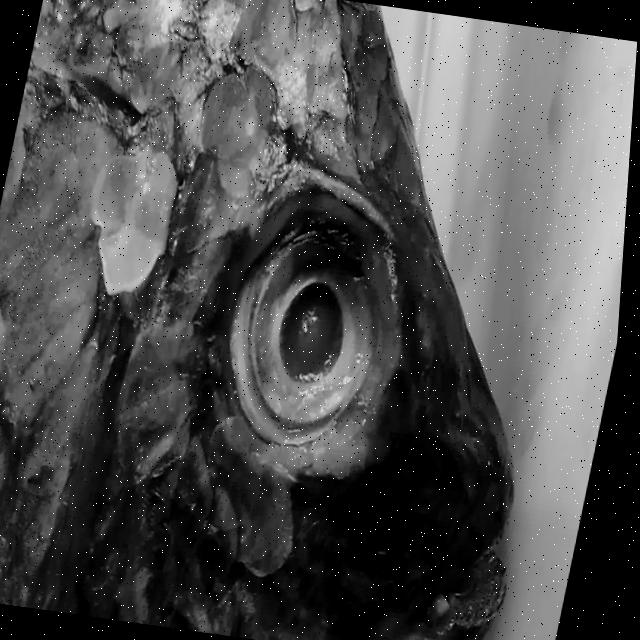Non-Fresh: (168, 183, 440, 487)
